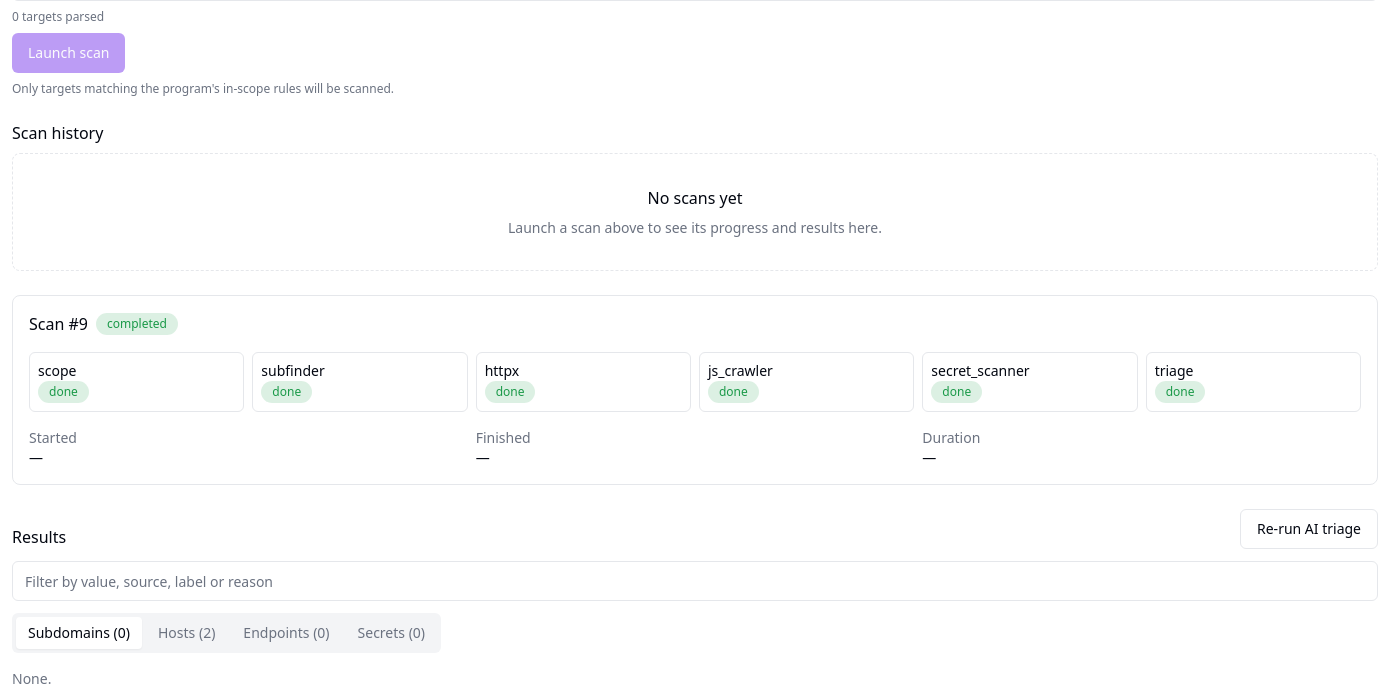
it: ReconDashboard › filters results and shows host meta in row detail
(page scrolled)
Click the tab "Hosts (2)". click: (187, 633)
box: left=146, top=617, right=227, bottom=649
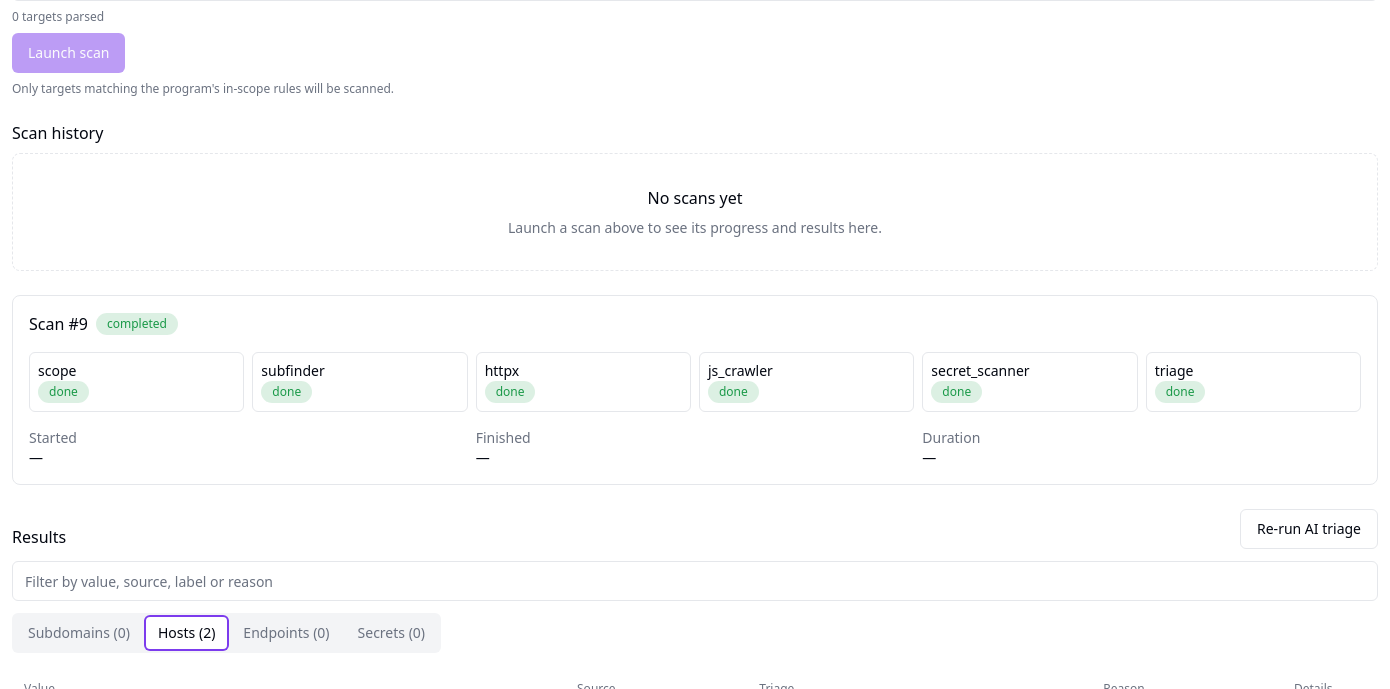
Type "a.acme" into the field named "Filter results". click: (695, 581)
box: left=12, top=561, right=1378, bottom=601
(page scrolled)
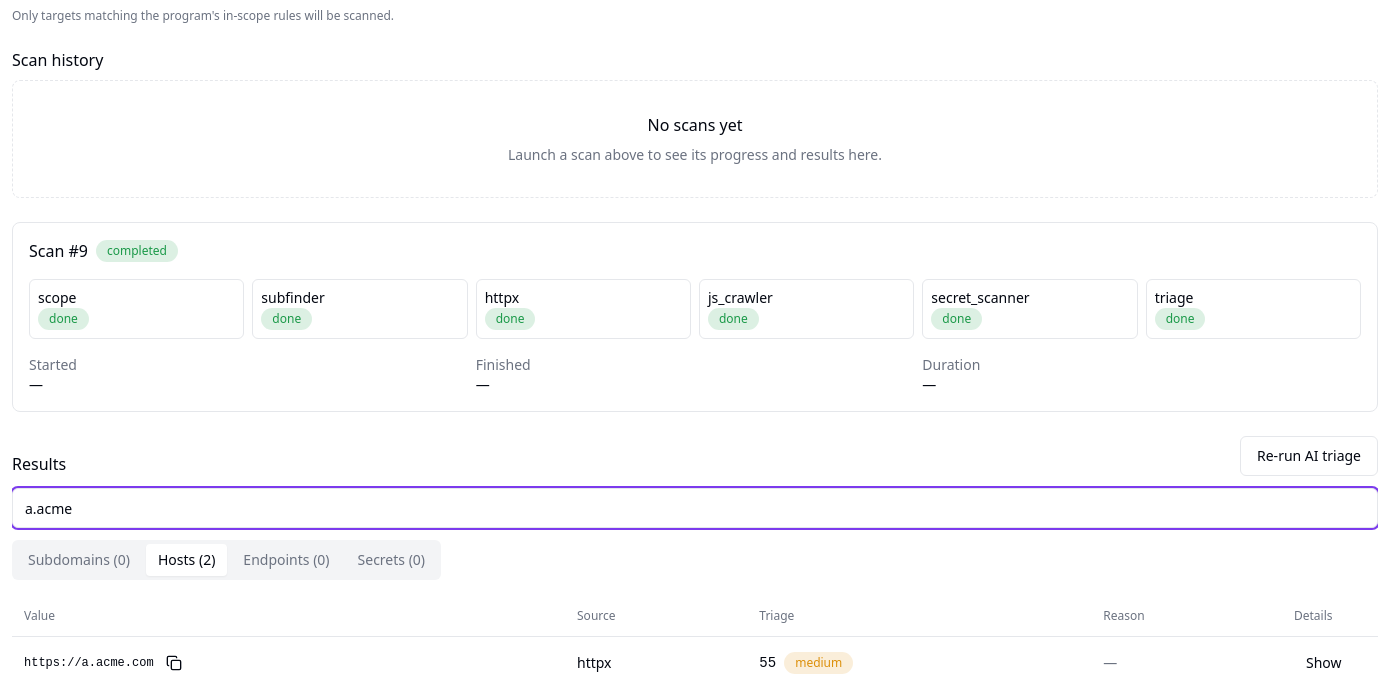
expect the number of rows with test id "asset-row" is 1: met, box left=12, top=636, right=1378, bottom=688
Click the button with aria-label "Details for https://a.acme.com". click: (1324, 662)
box: left=1294, top=644, right=1354, bottom=680
(page scrolled)
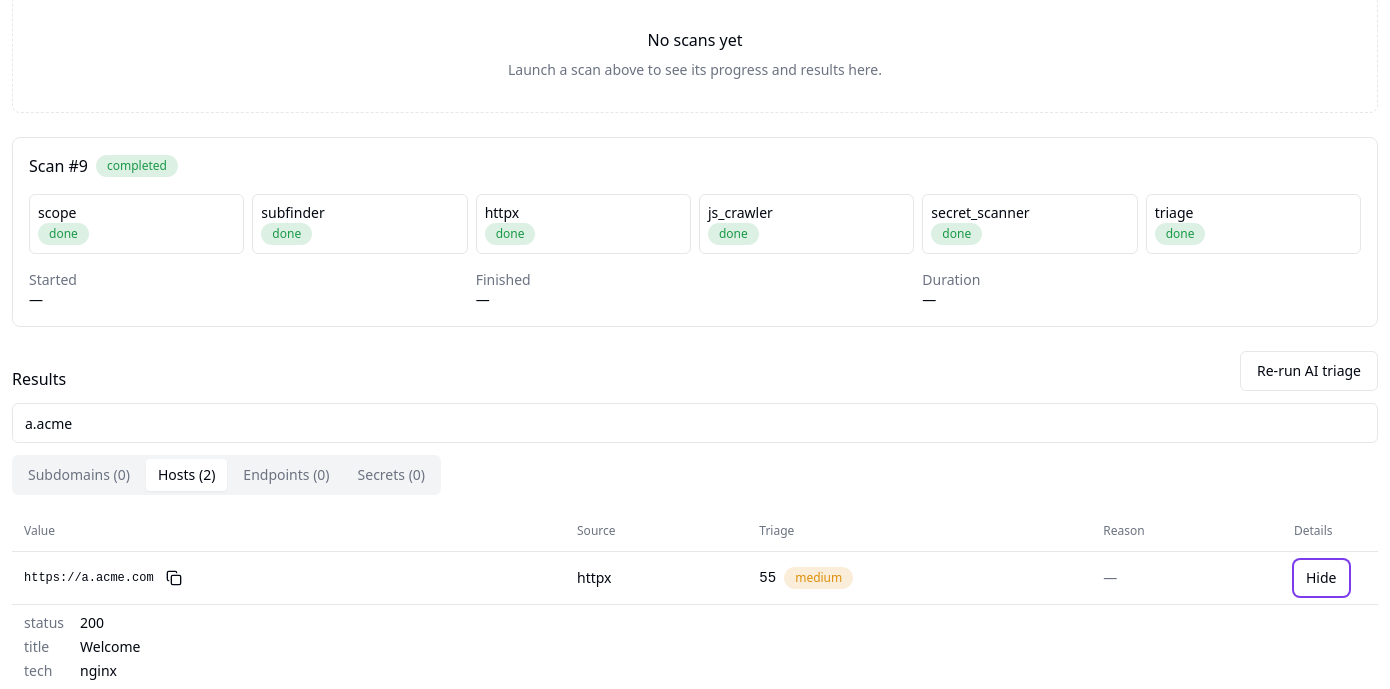
expect the text "Welcome" is shown: met, box left=80, top=636, right=140, bottom=656
expect the text "nginx" is shown: met, box left=80, top=660, right=117, bottom=680
